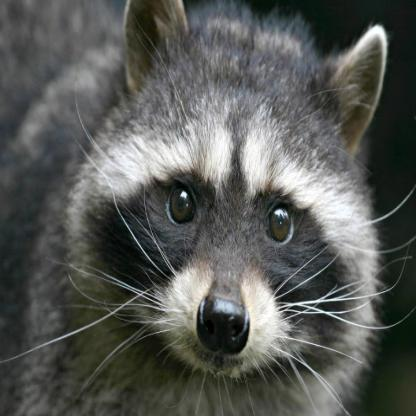raccoon: (6, 1, 390, 416)
